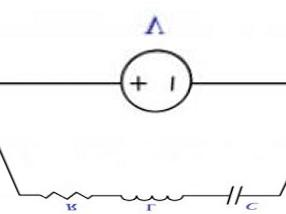resistor: (34, 184, 95, 204)
